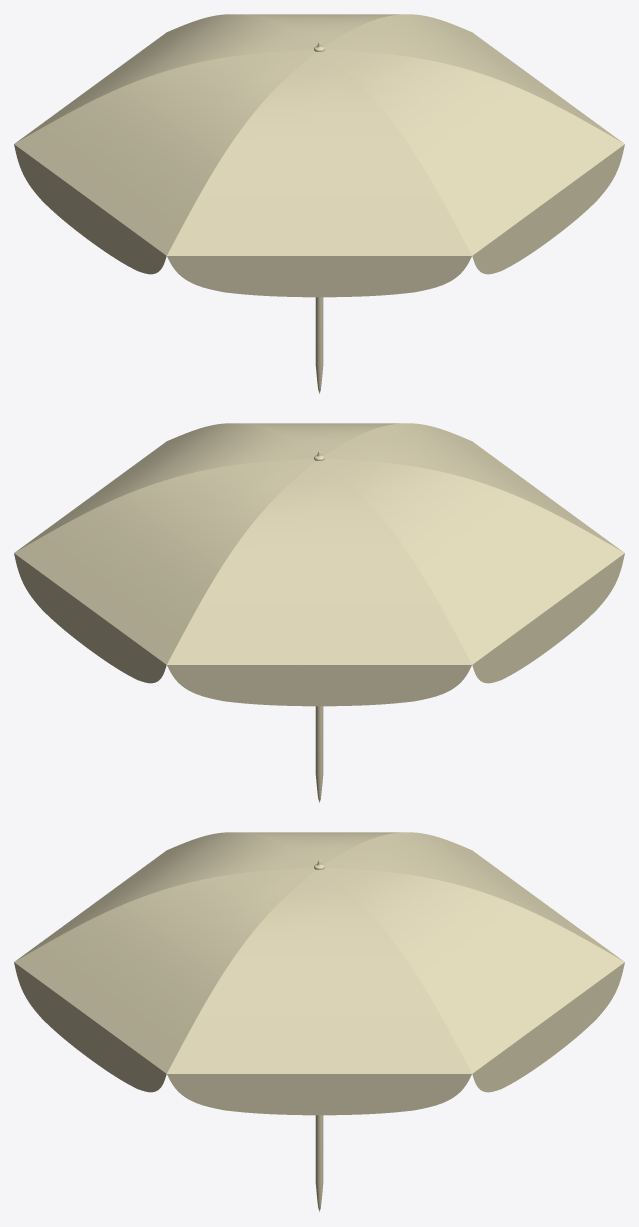
Rendered from umbrella.glb.
The picture shows the model from 3 angles, top to bottom: view 1: azimuth 30°, elevation 25°; view 2: azimuth 150°, elevation 25°; view 3: azimuth 270°, elevation 25°; orthographic projection.
Parts seen in each view (by area): view 1: mesh_id28, mesh_id29; view 2: mesh_id28, mesh_id29; view 3: mesh_id28, mesh_id29.
Part boxes in pixels (box(x1,y1,x2,y2)): mesh_id28: box(14, 14, 624, 297); mesh_id29: box(314, 42, 324, 394); mesh_id28: box(14, 423, 624, 706); mesh_id29: box(314, 451, 324, 803); mesh_id28: box(14, 832, 624, 1115); mesh_id29: box(314, 860, 324, 1212).
Size of the model in its own units: 0.512 by 0.3765 by 0.5912.
Materials: 2 (2 with a texture image).
